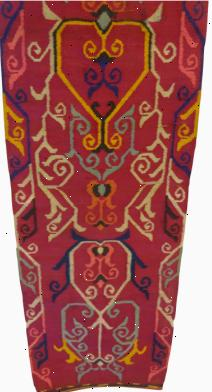malong: (0, 0, 210, 392)
